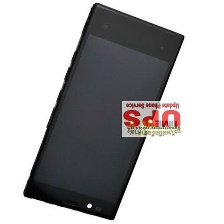phone: (19, 0, 187, 223)
